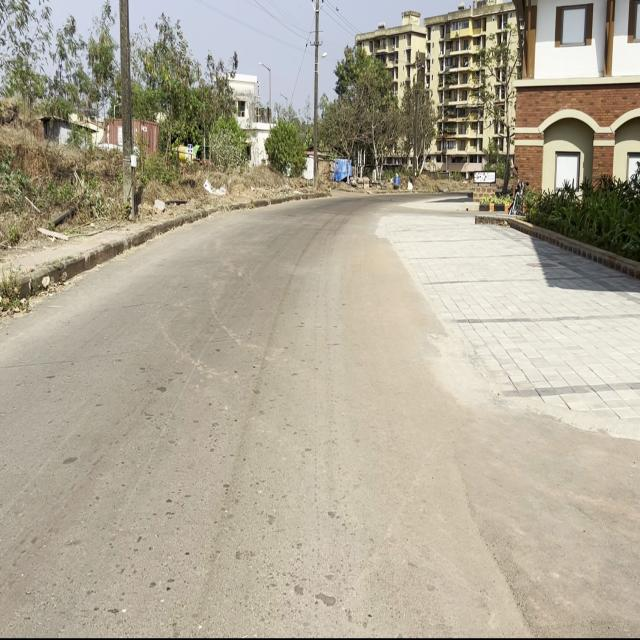Road: (0, 195, 518, 639)
